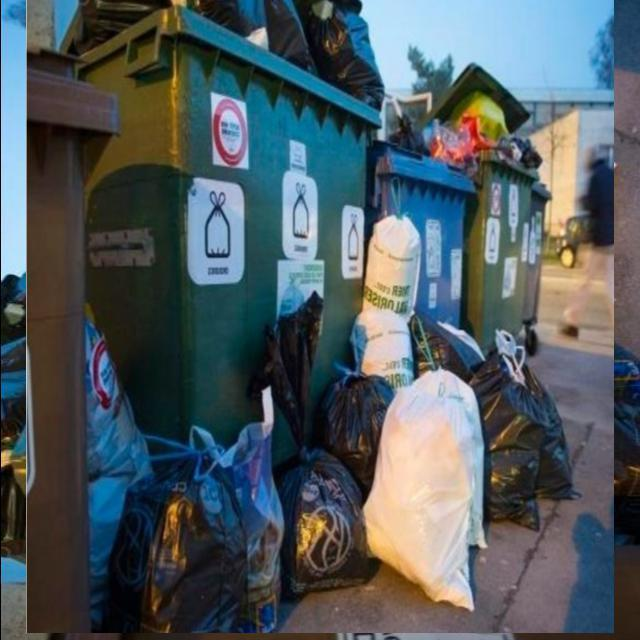Trashbag: (104, 460, 251, 629), (477, 363, 572, 534), (279, 454, 365, 594), (311, 366, 398, 477), (306, 4, 388, 110), (405, 308, 483, 383)
